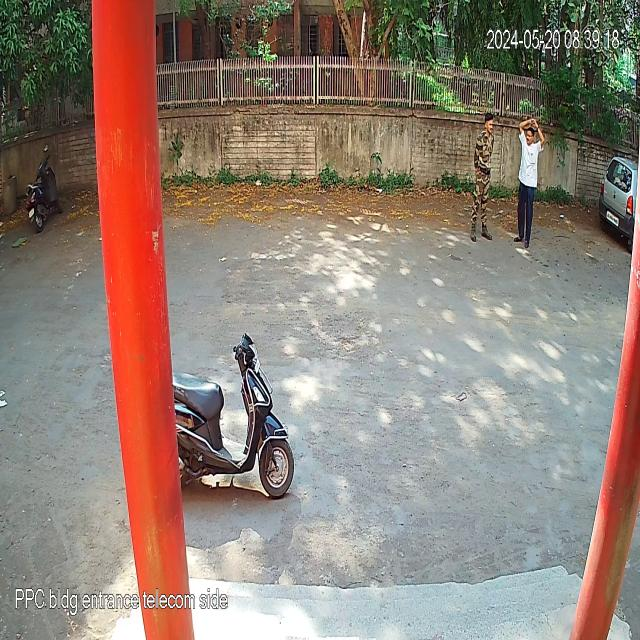no-safety-helmet: (482, 110, 499, 141), (523, 124, 537, 152)
no-safety-shoes: (481, 223, 492, 242), (470, 225, 477, 245), (512, 233, 522, 246), (523, 238, 531, 252)
person: (492, 114, 546, 250)
